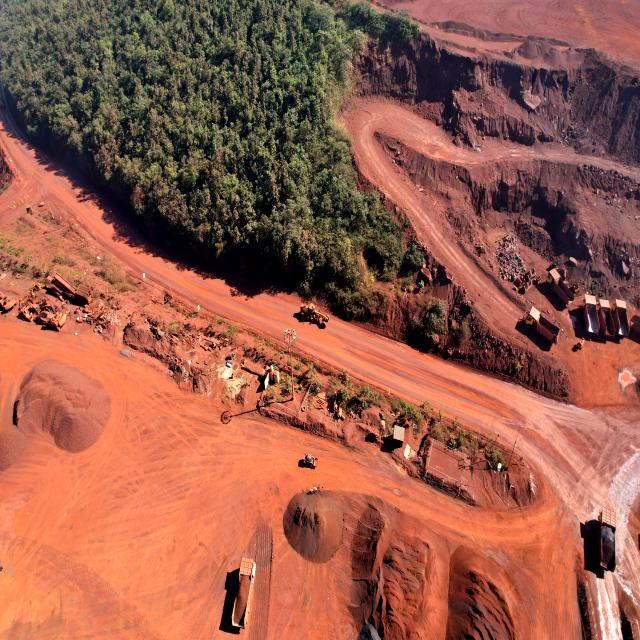Dumper truck: (229, 558, 255, 631), (523, 304, 559, 344), (598, 510, 619, 574), (599, 297, 627, 336), (581, 295, 601, 335), (548, 274, 573, 302)
Excavator: (38, 309, 65, 332)
